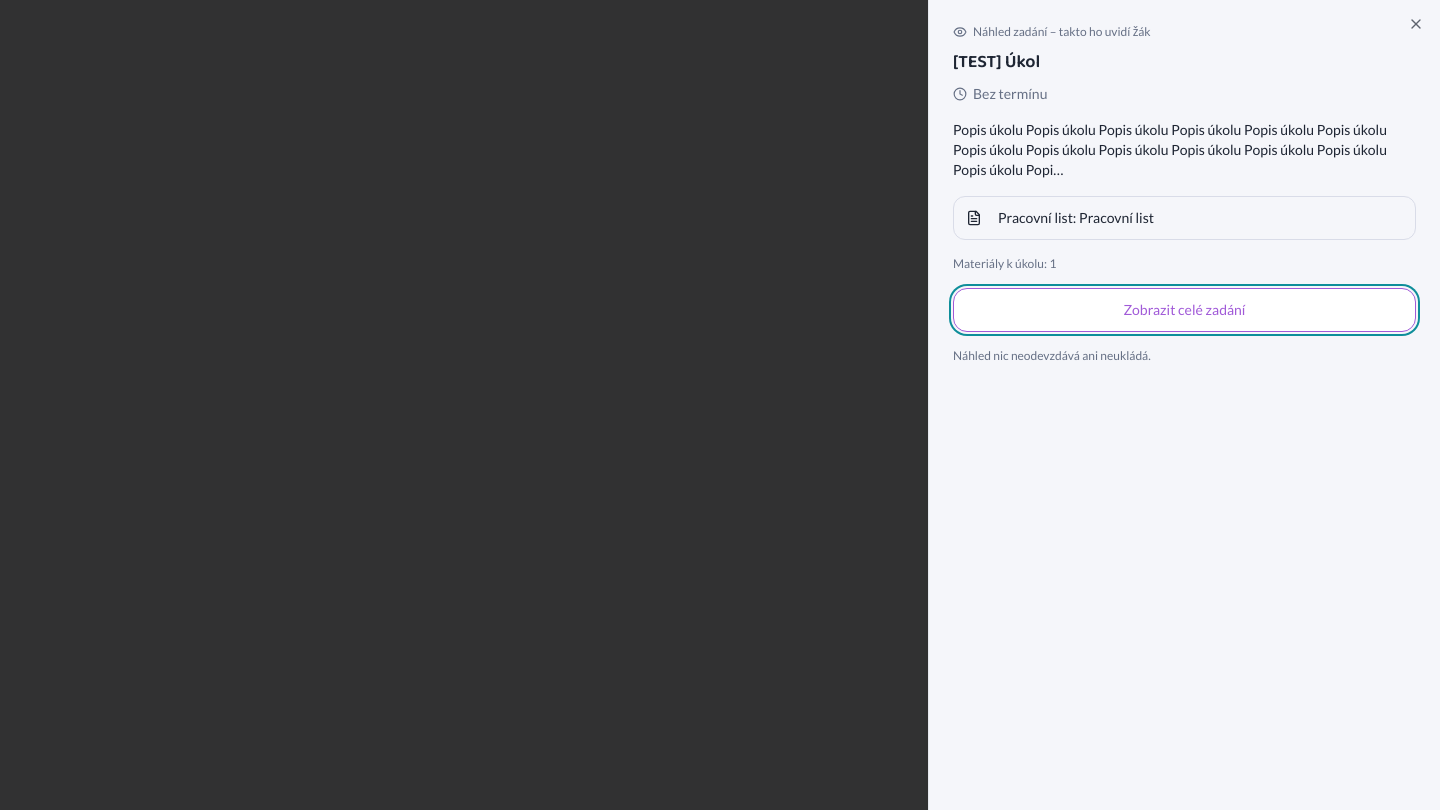
Scenario: Náhled zadání › výchozí zavřený stav, rozbalení ukáže celé zadání a materiály, nic se nezapíše
This screenshot has width=1440, height=810.
Expected: the text "Odkaz na zdroj" is not shown
Expected: the link "Pracovní list: Pracovní list" is shown, [953,196,1416,240]
Click the button "Zobrazit celé zadání". click: (1184, 310)
box: [953,288,1416,332]
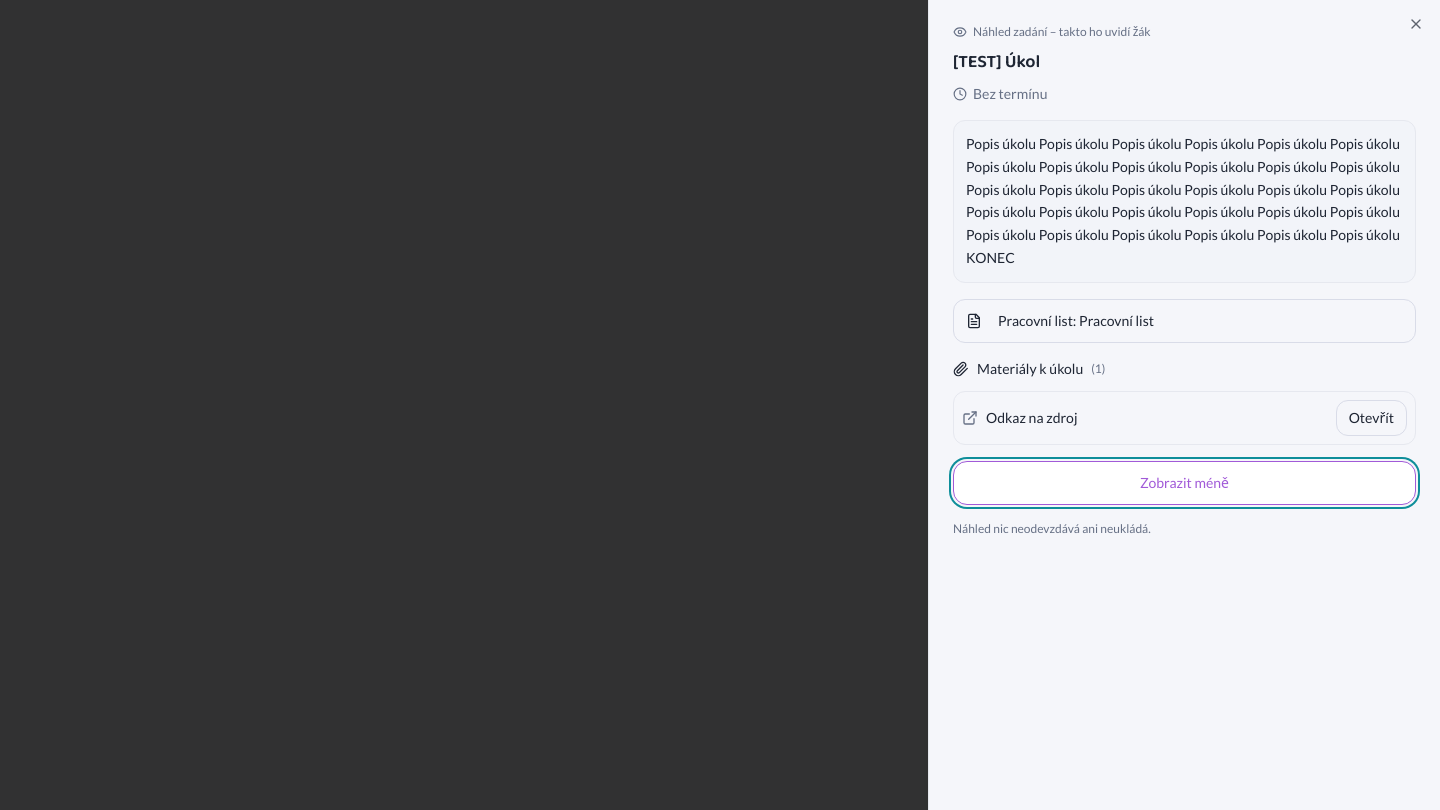
Result: the text "KONEC" is shown at [966,135,1400,266]
Result: the text "Odkaz na zdroj" is shown at [986,408,1078,426]
